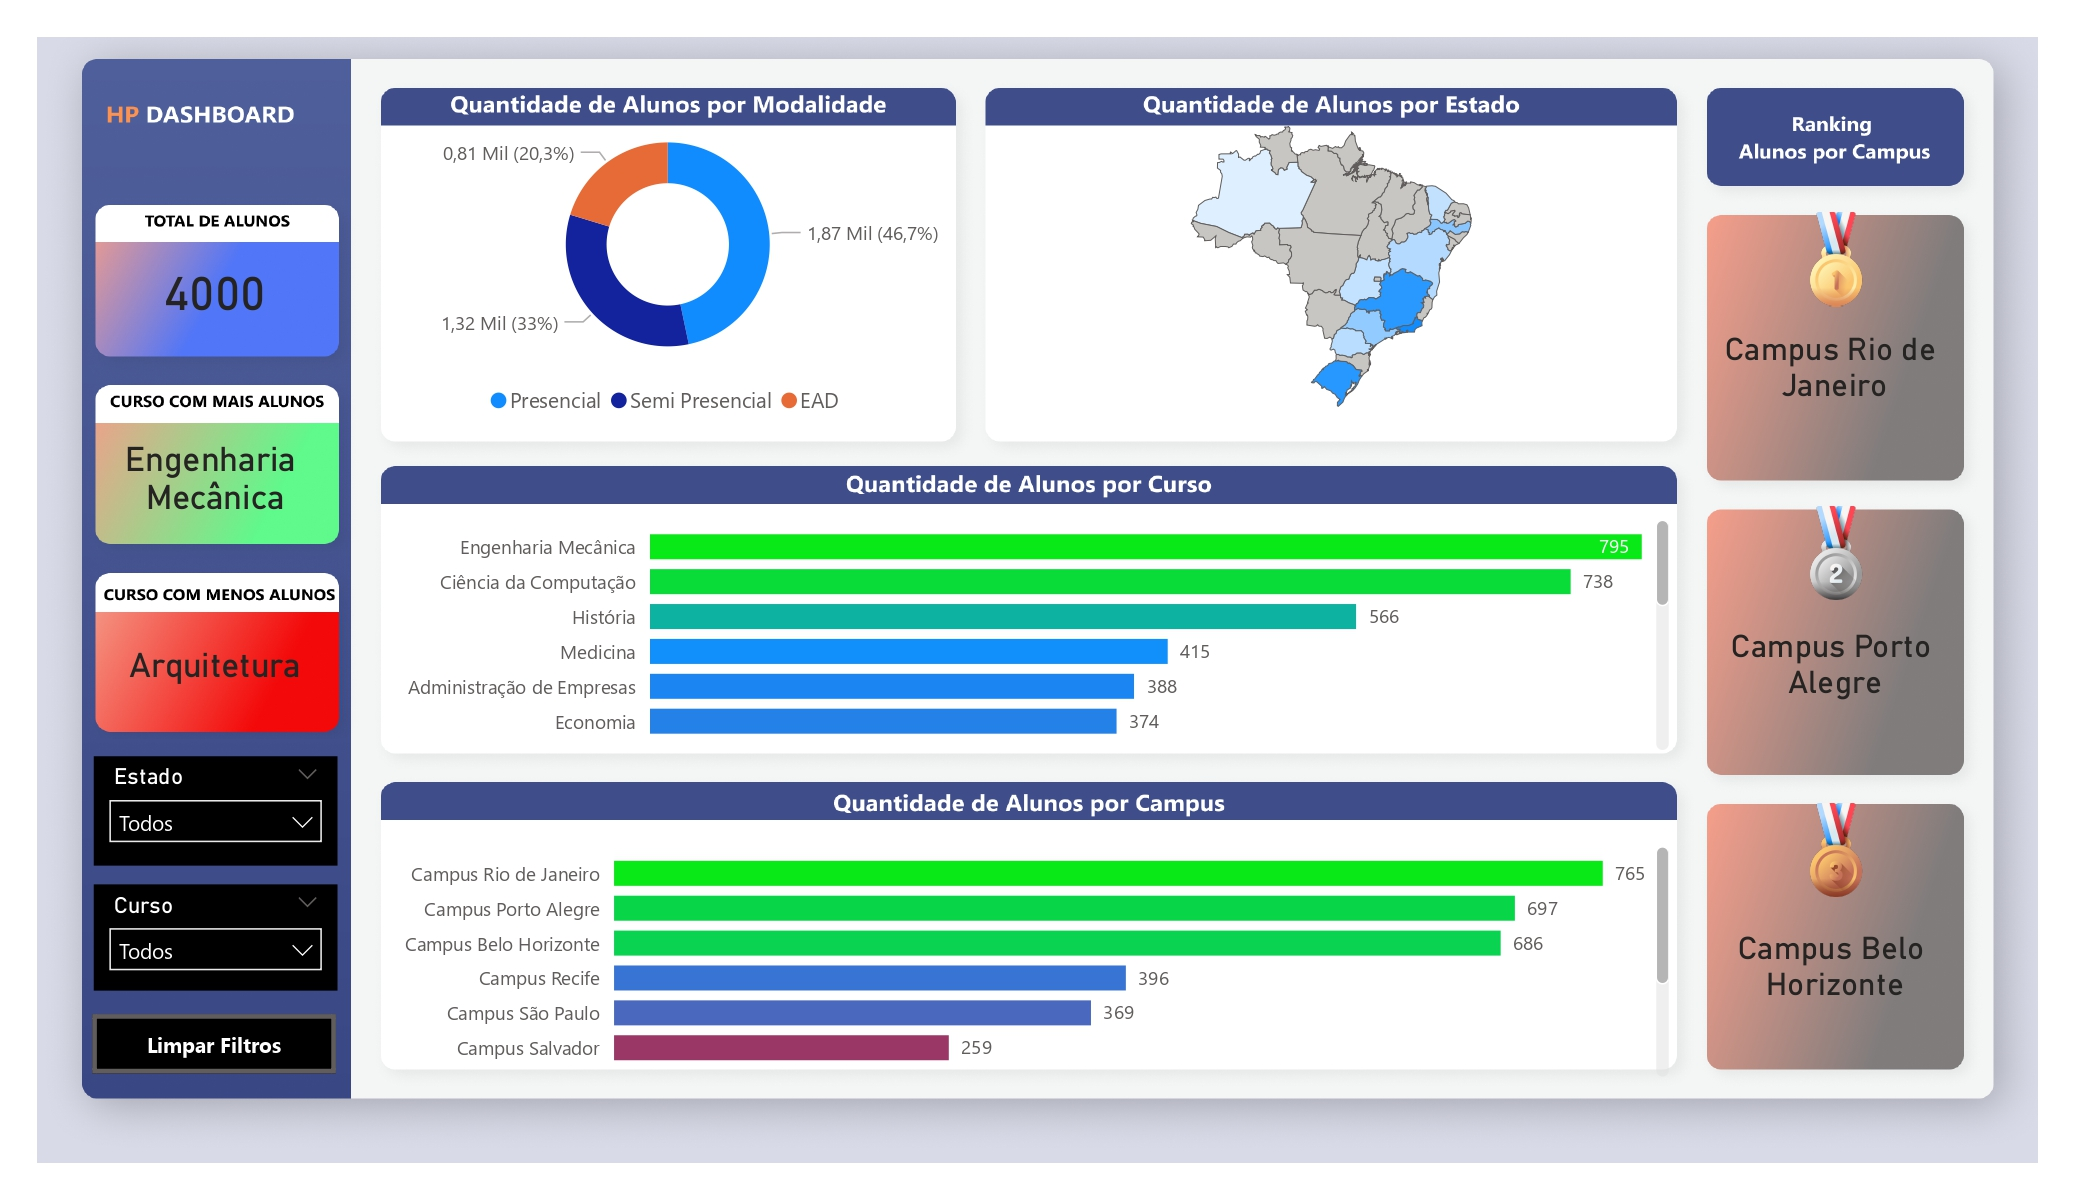

This screenshot's page, from the dashboard's own definition file:
{"tool":"powerbi","page":{"name":"DASHBOARD","canvas":[1280,720],"ordinal":0},"visuals":[{"type":"image","box":[1116.4,106.4,69.2,70.9],"z":0},{"type":"image","box":[1116.4,288.2,69.2,84.2],"z":1000},{"type":"image","box":[1116.4,476.2,69.2,86.9],"z":2000},{"type":"barChart","fields":{"Y":["CountNonNull(dim_aluno.aluno_id)"],"Category":["dim_curso.nome_curso"]},"box":[220.8,295.7,827.7,165.3],"z":3000},{"type":"barChart","fields":{"Y":["CountNonNull(dim_aluno.aluno_id)"],"Category":["dim_campus.nome_campus"]},"box":[220.8,504.8,827.7,165.3],"z":4000},{"type":"donutChart","fields":{"Y":["CountNonNull(dim_aluno.aluno_id)"],"Category":["dim_modalidade.nome_modalidade"]},"box":[220.8,42.8,364.7,208.1],"z":5000},{"type":"card","fields":{"Values":["dim_aluno.Nome do Curso com Mais Alunos"]},"box":[35.5,242.1,156.1,78.9],"z":6000},{"type":"card","fields":{"Values":["dim_aluno.Nome do Curso com Menos Alunos"]},"box":[35.5,360,156.1,81.6],"z":7000},{"type":"card","fields":{"Values":["dim_aluno.Nome do Campus com Mais Alunos"]},"box":[1068.5,147.2,163.2,126.8],"z":8000},{"type":"card","fields":{"Values":["dim_aluno.Nome do Segundo Campus com Mais Alunos"]},"box":[1069.4,336.9,162.3,126.8],"z":9000},{"type":"card","fields":{"Values":["dim_aluno.Nome do Terceiro Campus com Mais Alunos"]},"box":[1069.4,530.2,162.3,126.8],"z":10000},{"type":"slicer","fields":{"Values":["dim_campus.estado"]},"box":[36.4,460.2,155.2,70],"z":11000},{"type":"slicer","fields":{"Values":["dim_curso.nome_curso"]},"box":[36.4,541.8,155.2,68.3],"z":12000},{"type":"actionButton","box":[35.5,625.1,155.2,38.1],"z":13000},{"type":"card","fields":{"Values":["MedidasDAX.Total Alunos"]},"box":[35.5,122.4,156.1,78.9],"z":14000},{"type":"shapeMap","title":" Vendas por Estado","fields":{"Category":["dim_campus.estado"],"Value":["CountNonNull(dim_aluno.aluno_id)"]},"box":[606.7,42.3,442.5,208.6],"z":15000}]}

Visuals, with their boxes on the page's 1280x720 design canvas (x1, y1, x2, y2). These are canvas units, not pixel positions in the 2075x1200 screenshot, which may show the page scaled, cropped or inside an application window:
image: 1116 106 1186 177
image: 1116 288 1186 372
image: 1116 476 1186 563
barChart - CountNonNull(dim_aluno.aluno_id) x dim_curso.nome_curso: 221 296 1048 461
barChart - CountNonNull(dim_aluno.aluno_id) x dim_campus.nome_campus: 221 505 1048 670
donutChart - CountNonNull(dim_aluno.aluno_id) x dim_modalidade.nome_modalidade: 221 43 586 251
card - dim_aluno.Nome do Curso com Mais Alunos: 36 242 192 321
card - dim_aluno.Nome do Curso com Menos Alunos: 36 360 192 442
card - dim_aluno.Nome do Campus com Mais Alunos: 1068 147 1232 274
card - dim_aluno.Nome do Segundo Campus com Mais Alunos: 1069 337 1232 464
card - dim_aluno.Nome do Terceiro Campus com Mais Alunos: 1069 530 1232 657
slicer - dim_campus.estado: 36 460 192 530
slicer - dim_curso.nome_curso: 36 542 192 610
actionButton: 36 625 191 663
card - MedidasDAX.Total Alunos: 36 122 192 201
" Vendas por Estado" shapeMap: 607 42 1049 251
